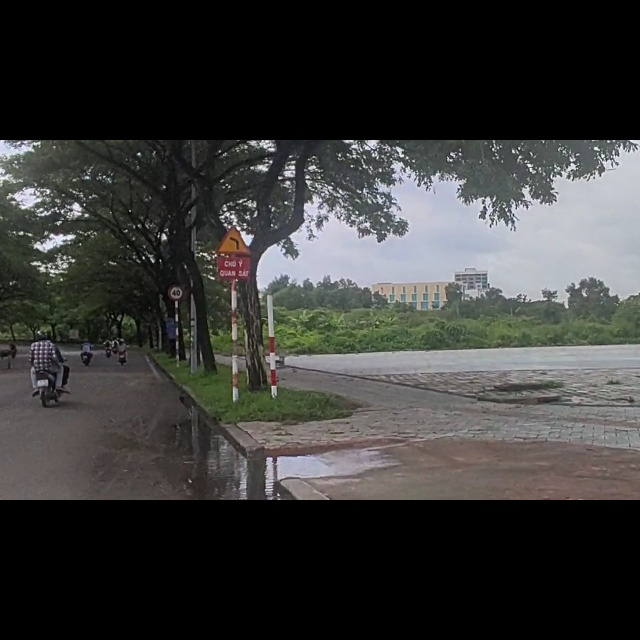bien_nguy_hiem: (214, 147, 256, 204), (167, 255, 186, 284)
